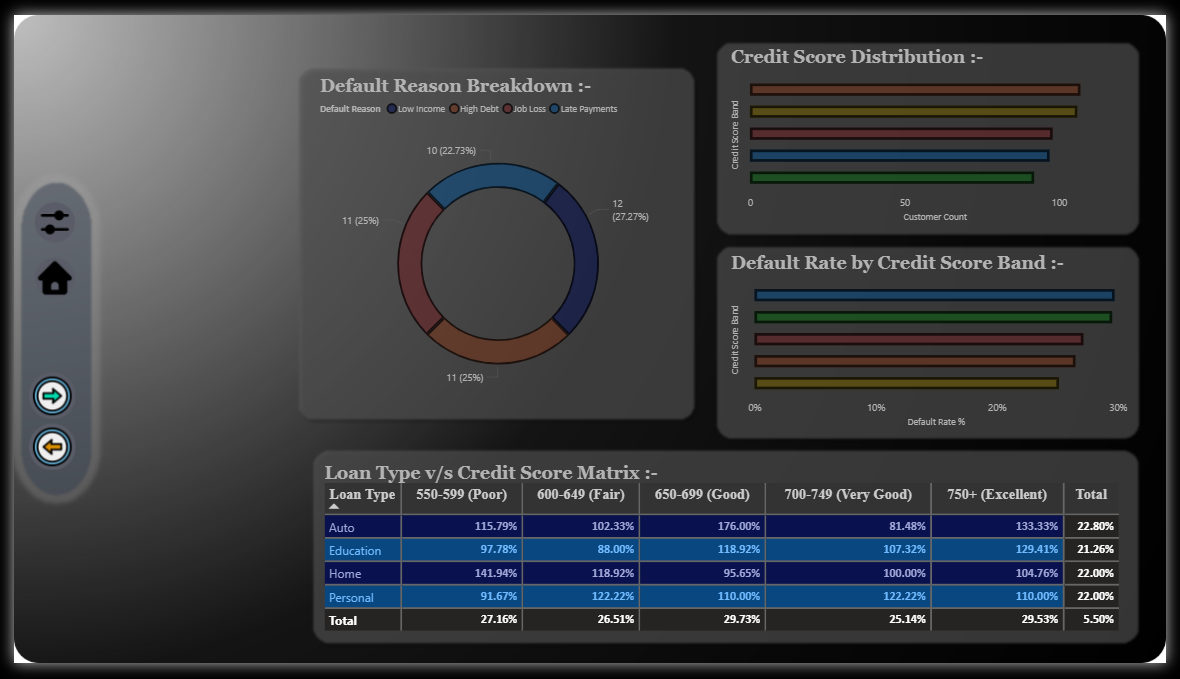

The page's visual inventory and layout, read from the dashboard file:
{"tool":"powerbi","page":{"name":"Default Risk Analysis :-","canvas":[1280,720],"ordinal":2},"visuals":[{"type":"group","id":"g1","title":"Visuals ","box":[335.1,35,908.3,659.5],"z":0},{"type":"barChart","title":"Credit Score Distribution :-","fields":{"Category":["tab_customers.Credit Score Band"],"Y":["MyMeasures.Customer Count"]},"box":[791.7,35,451.7,200],"z":0,"group":"g1"},{"type":"actionButton","title":"Previous_Page","box":[0,429.4,84.6,99.2],"z":0,"group":"g2"},{"type":"group","id":"g2","title":"Buttons ","box":[0,193.6,84.6,335.1],"z":1000},{"type":"barChart","title":"Default Rate by Credit Score Band :-","fields":{"Category":["tab_customers.Credit Score Band"],"Y":["MyMeasures.Default Rate %"]},"box":[792.2,263.5,450.6,200.1],"z":1000,"group":"g1"},{"type":"actionButton","title":"Next_Page","box":[0,374.1,84.6,99.2],"z":1000,"group":"g2"},{"type":"actionButton","title":"Home_Page","box":[9,255.4,74.8,74.8],"z":2000,"group":"g2"},{"type":"pivotTable","title":"Loan Type v/s Credit Score Matrix :-","fields":{"Columns":["tab_customers.Credit Score Band"],"Rows":["tab_loans.loan_type"],"Values":["MyMeasures.Default Rate %"]},"box":[340,496.1,902.7,198.4],"z":2000,"group":"g1"},{"type":"donutChart","title":"Default Reason Breakdown :-","fields":{"Category":["tab_defaults.default_reason"],"Y":["MyMeasures.Total Defaults"]},"box":[335.1,66.7,405,374.1],"z":3000,"group":"g1"},{"type":"actionButton","title":"Filter_Page","box":[9,193.6,74.8,74.8],"z":3000,"group":"g2"}]}

Visuals, with their boxes in screenshot pixels (x1, y1, x2, y2), scaled from the page's 1280x720 canvas onto the 1180x679 screenshot:
"Visuals " group: rect(309, 33, 1146, 655)
"Credit Score Distribution :-" barChart: rect(730, 33, 1146, 222)
"Previous_Page" actionButton: rect(0, 405, 78, 498)
"Buttons " group: rect(0, 183, 78, 499)
"Default Rate by Credit Score Band :-" barChart: rect(730, 248, 1146, 437)
"Next_Page" actionButton: rect(0, 353, 78, 446)
"Home_Page" actionButton: rect(8, 241, 77, 311)
"Loan Type v/s Credit Score Matrix :-" pivotTable: rect(313, 468, 1146, 655)
"Default Reason Breakdown :-" donutChart: rect(309, 63, 682, 416)
"Filter_Page" actionButton: rect(8, 183, 77, 253)
